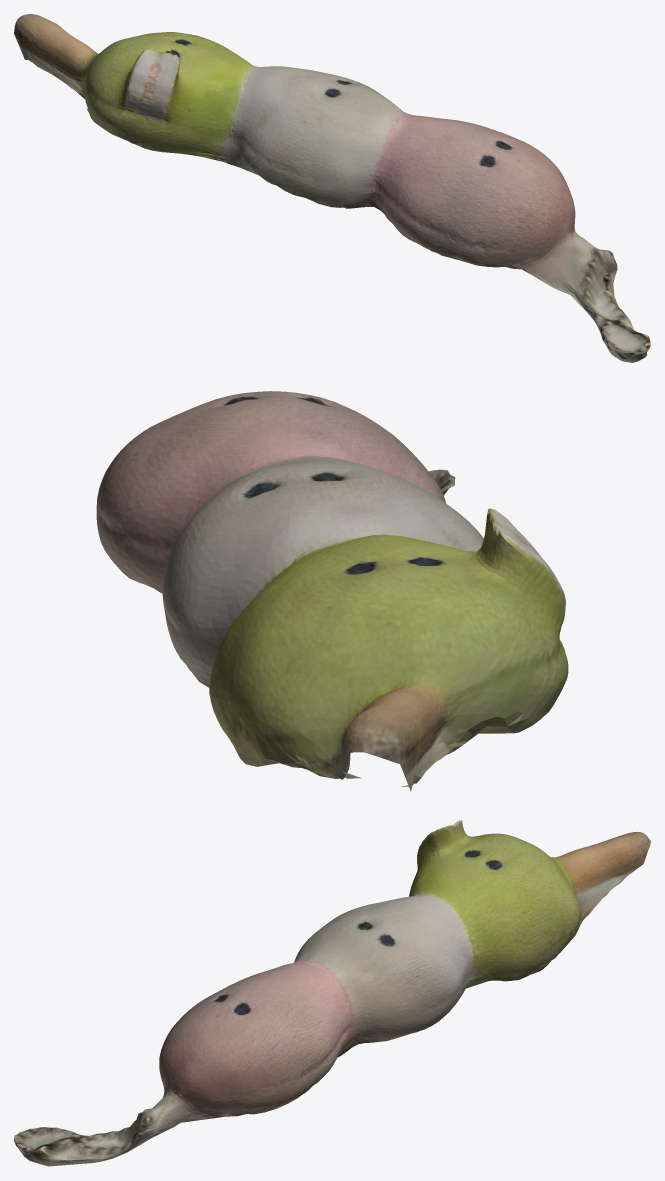
The picture shows the model from 3 angles, top to bottom: view 1: azimuth 30°, elevation 25°; view 2: azimuth 150°, elevation 25°; view 3: azimuth 270°, elevation 25°; orthographic projection. The views are drawn at different scales.
Bounding box in the file's own units: 0.3816 × 0.2324 × 0.6219.
1 material, 1 textured.
